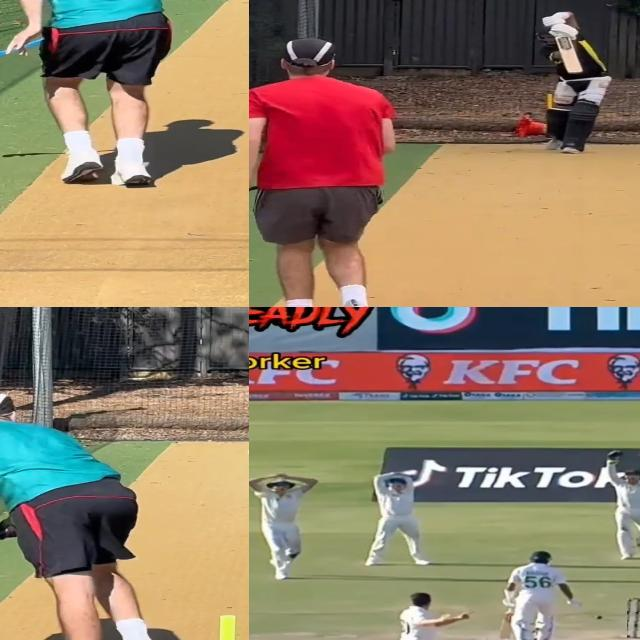Cricket ball: (246, 448, 249, 457)
Stumps: (626, 597, 640, 638)
